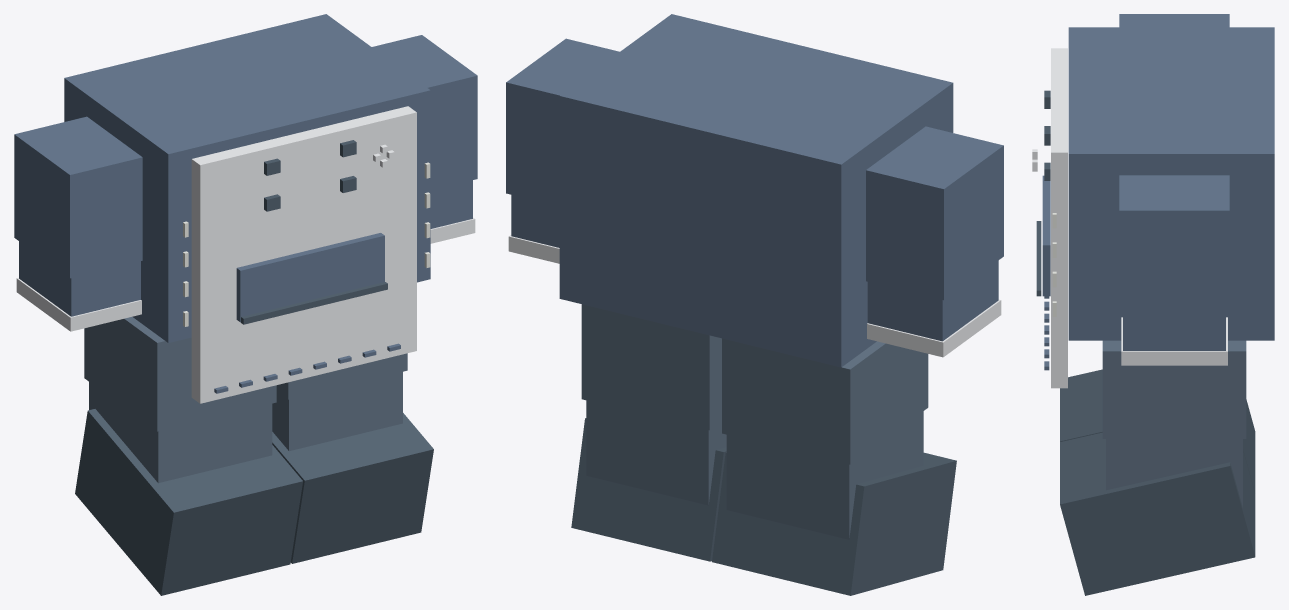
Rendered from chef-navy.glb.
The picture shows the model from 3 angles, left to right: view 1: azimuth 30°, elevation 25°; view 2: azimuth 150°, elevation 25°; view 3: azimuth 270°, elevation 25°; orthographic projection. The views are drawn at different scales.
Parts seen in each view (by area): view 1: apron, jacket, shoe-Right, upper-sleeve-Right, shoe-Left, trouser-Right, lower-trouser-Right, upper-sleeve-Left, apron-pocket, lower-trouser-Left, lower-sleeve-Right, trouser-Left (+4 smaller); view 2: jacket, upper-sleeve-Right, trouser-Right, shoe-Right, trouser-Left, lower-trouser-Right, lower-trouser-Left, upper-sleeve-Left, shoe-Left, lower-sleeve-Right, cuff-Right, lower-sleeve-Left (+1 smaller); view 3: jacket, shoe-Left, upper-sleeve-Left, trouser-Left, apron, lower-trouser-Left, lower-sleeve-Left, shoe-Right, cuff-Left, upper-sleeve-Right, apron-pocket, design-chef-apron-pocket-binding.
Boxes of the visible parts, box(x1,y1,x2,y2) form: apron: box(191, 106, 416, 403); jacket: box(64, 14, 430, 342); shoe-Right: box(75, 409, 302, 595); upper-sleeve-Right: box(14, 116, 142, 278); shoe-Left: box(272, 413, 433, 563); trouser-Right: box(84, 317, 276, 431); lower-trouser-Right: box(89, 382, 272, 482); upper-sleeve-Left: box(372, 35, 477, 190); apron-pocket: box(236, 233, 384, 322); lower-trouser-Left: box(272, 372, 402, 451); lower-sleeve-Right: box(19, 241, 140, 316); trouser-Left: box(276, 353, 407, 399); jacket: box(559, 14, 953, 367); upper-sleeve-Right: box(866, 126, 1003, 300); trouser-Right: box(722, 338, 928, 464); shoe-Right: box(712, 452, 956, 595); trouser-Left: box(581, 304, 721, 430); lower-trouser-Right: box(726, 411, 923, 539); lower-trouser-Left: box(586, 400, 726, 505); upper-sleeve-Left: box(506, 38, 619, 206); shoe-Left: box(571, 418, 726, 561); lower-sleeve-Right: box(867, 260, 998, 341); cuff-Right: box(867, 299, 1001, 357); lower-sleeve-Left: box(511, 195, 559, 247); jacket: box(1068, 27, 1274, 340); shoe-Left: box(1060, 432, 1255, 595); upper-sleeve-Left: box(1119, 175, 1229, 312); trouser-Left: box(1102, 340, 1246, 438); apron: box(1051, 48, 1067, 388); lower-trouser-Left: box(1106, 439, 1242, 507); lower-sleeve-Left: box(1123, 312, 1225, 350); shoe-Right: box(1060, 369, 1255, 493); cuff-Left: box(1121, 317, 1227, 365); upper-sleeve-Right: box(1119, 14, 1229, 27); apron-pocket: box(1042, 175, 1050, 296); design-chef-apron-pocket-binding: box(1036, 221, 1041, 296).
Size of the model in its own units: 1.07 by 1.13 by 0.559.
